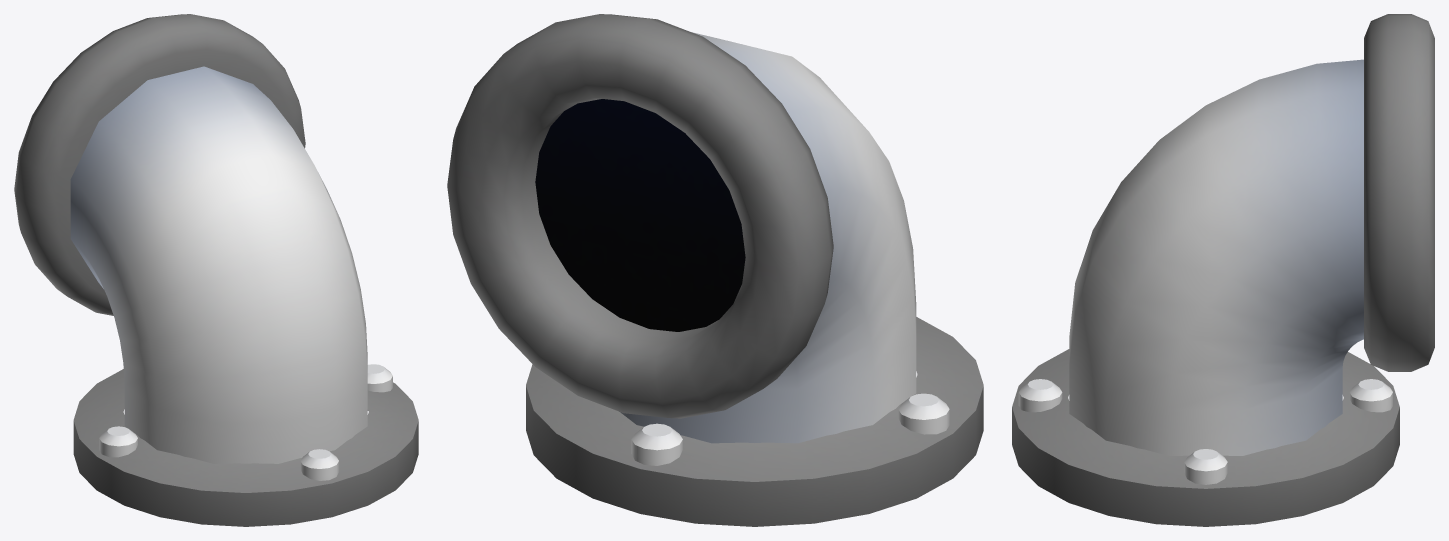
The model's file is unitSpawner.fbx.
The picture shows the model from 3 angles, left to right: view 1: azimuth 30°, elevation 25°; view 2: azimuth 150°, elevation 25°; view 3: azimuth 270°, elevation 25°; orthographic projection. The views are drawn at different scales.
Visible parts, largest first — view 1: Pipe; view 2: Pipe, Hole; view 3: Pipe.
Boxes of the visible parts, box(x1,y1,x2,y2) form: Pipe: box(14, 14, 418, 526); Pipe: box(447, 14, 983, 526); Hole: box(535, 99, 745, 331); Pipe: box(1012, 14, 1434, 526).
Bounding box in the file's own units: 0.5229 × 0.6172 × 0.5702.
